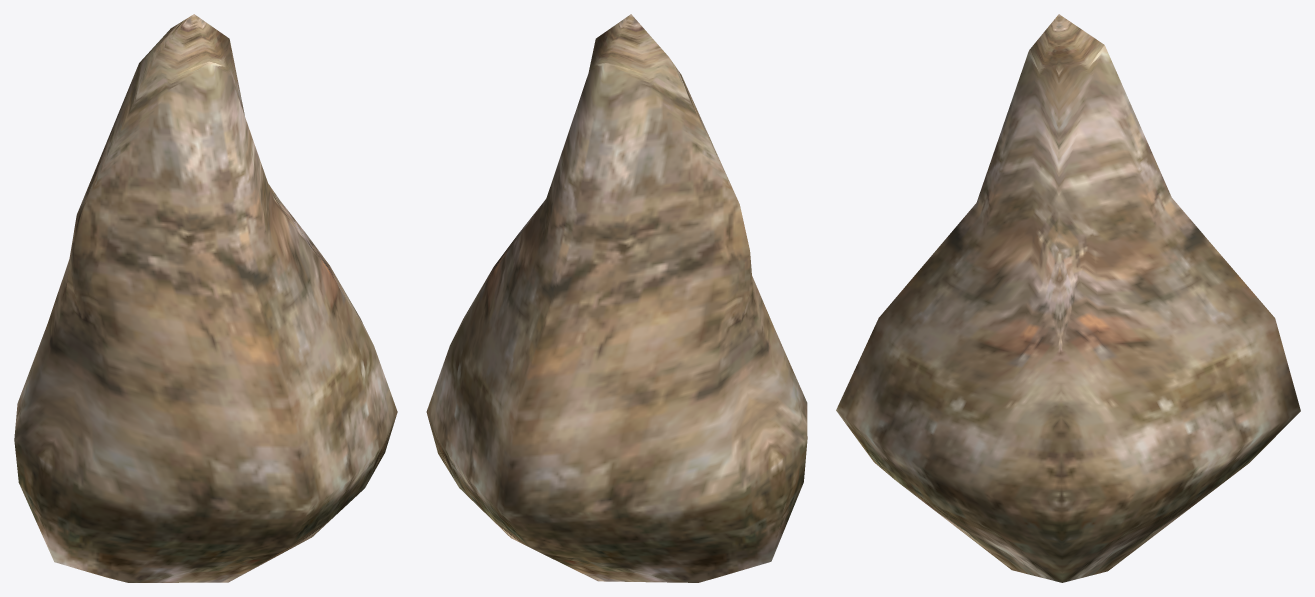
Rendered from thm_all_cave_stalagmite_b2_l0.fbx.
3 renders of one model, left to right at view 1: azimuth 30°, elevation 25°; view 2: azimuth 150°, elevation 25°; view 3: azimuth 270°, elevation 25°, orthographic. The views are drawn at different scales.
Visible parts, largest first — view 1: mesh_node; view 2: mesh_node; view 3: mesh_node.
Boxes of the visible parts, box(x1,y1,x2,y2) form: mesh_node: box(14, 14, 397, 582); mesh_node: box(426, 14, 807, 582); mesh_node: box(836, 14, 1300, 582).
Size of the model in its own units: 1.77 by 2.77 by 2.17.
